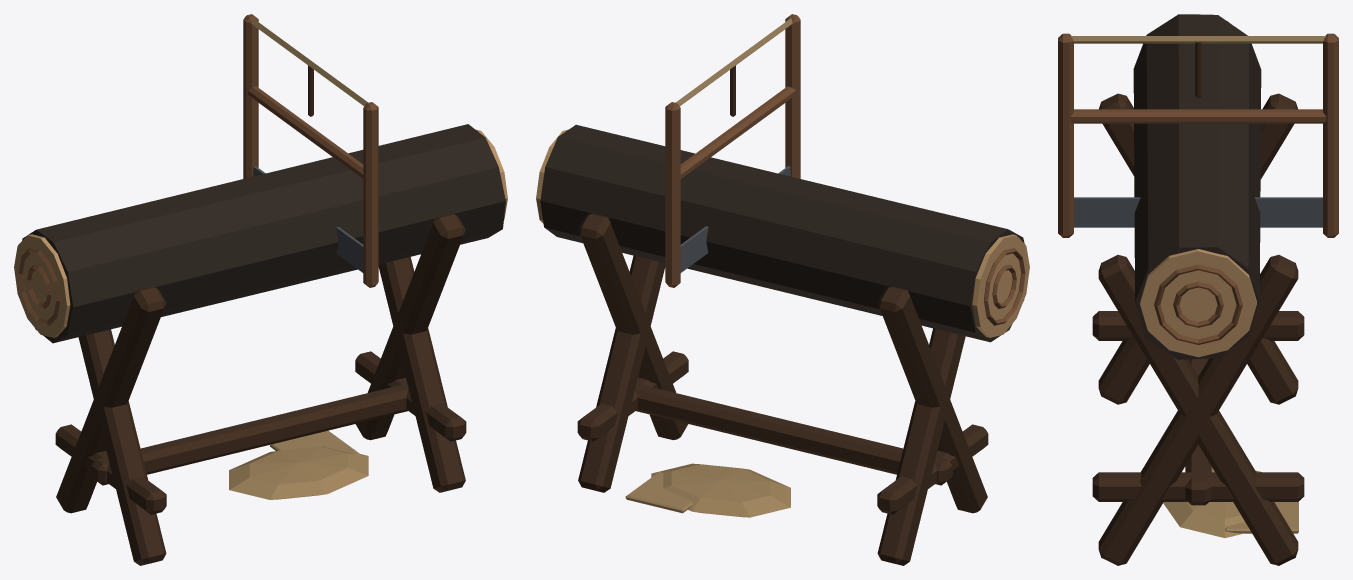
The model's file is sawhorse.glb.
3 renders of one model, left to right at view 1: azimuth 30°, elevation 25°; view 2: azimuth 150°, elevation 25°; view 3: azimuth 270°, elevation 25°, orthographic. The views are drawn at different scales.
Parts seen in each view (by area): view 1: Sawhorse; view 2: Sawhorse; view 3: Sawhorse.
Boxes of the visible parts, x1,y1,x2,y2 form: Sawhorse: (14,14,507,565); Sawhorse: (536,14,1029,565); Sawhorse: (1058,14,1338,565).
Size of the model in its own units: 1.08 by 0.994 by 0.53.
